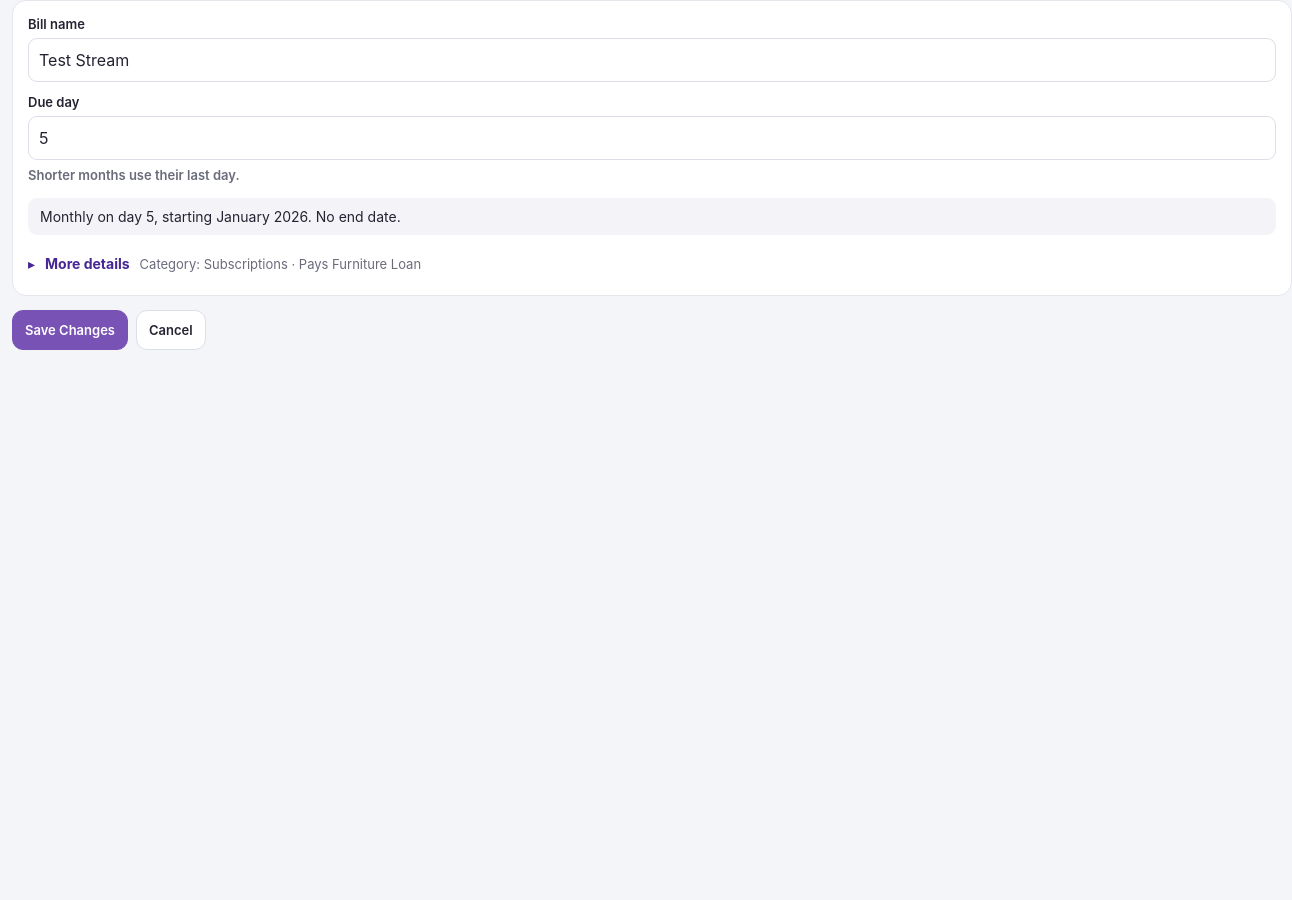
explains an incompatible End month edit, focuses the error and never saves
The width and height of the screenshot is (1292, 900).
Click the button "More details" at (79, 263), box [28,246,130,280]
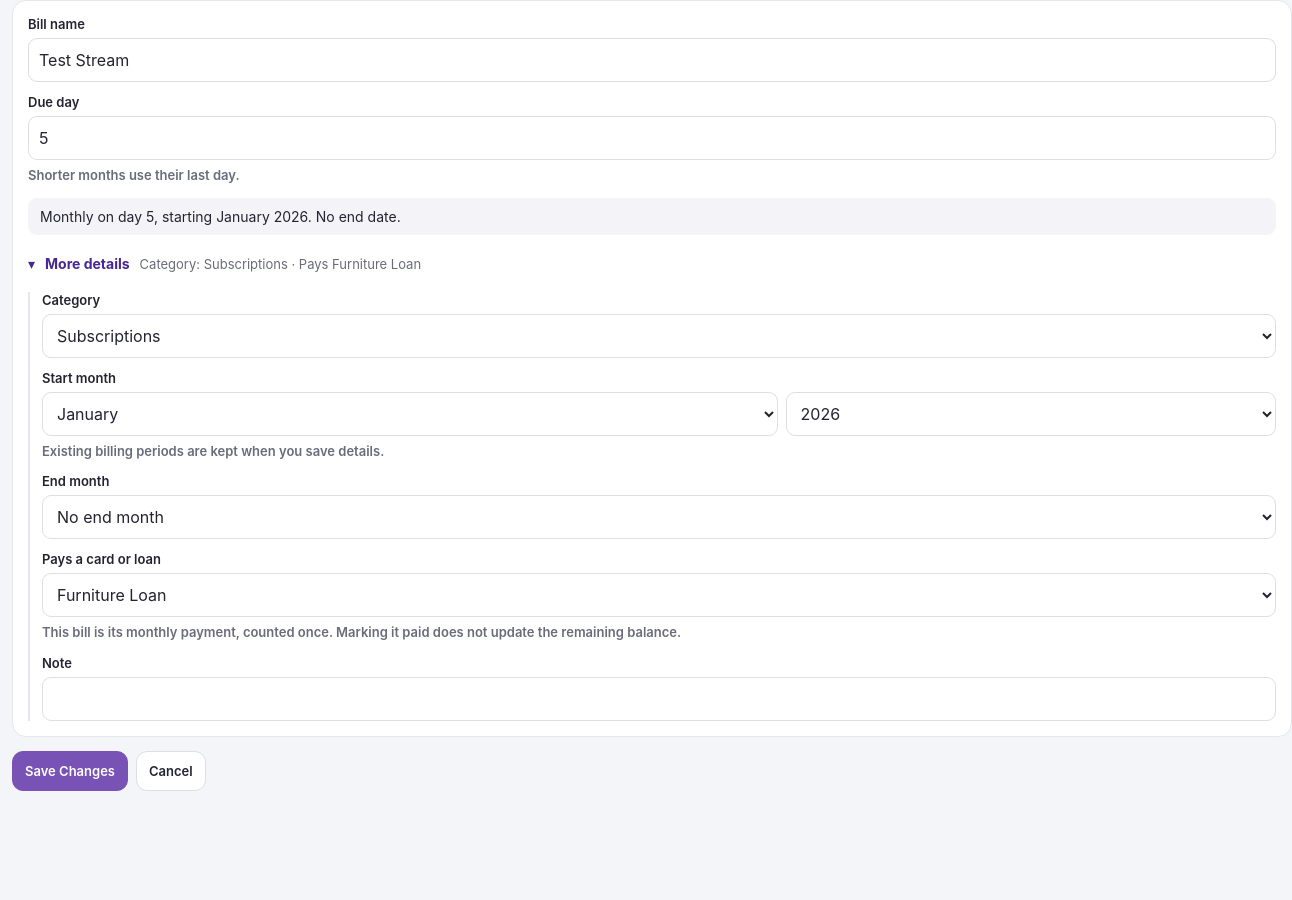
Select "February" in the dropdown named "End month: month" at (659, 517), box [42,495,1276,539]
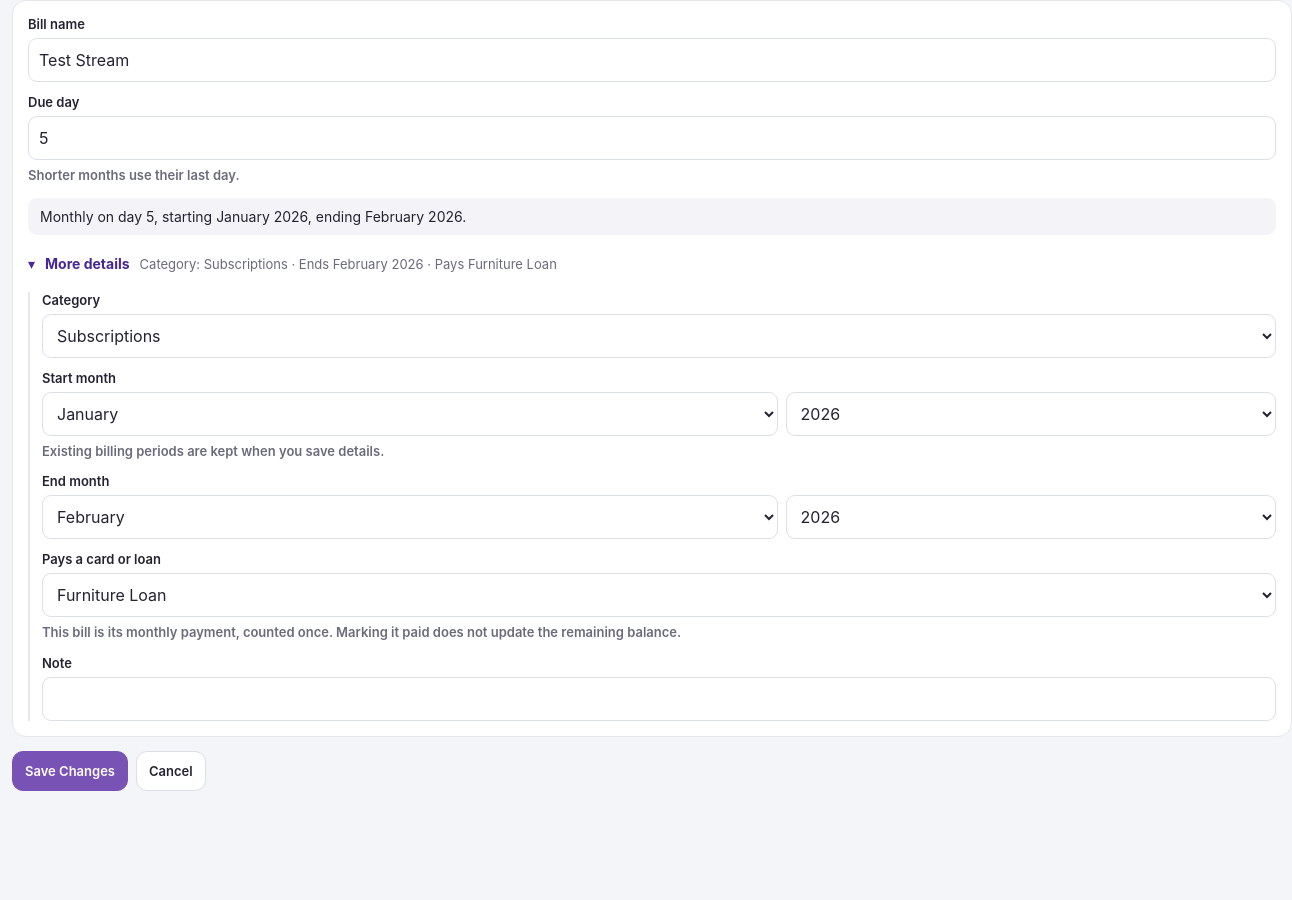
Click the button "Save Changes" at (70, 770), box [12,750,128,790]
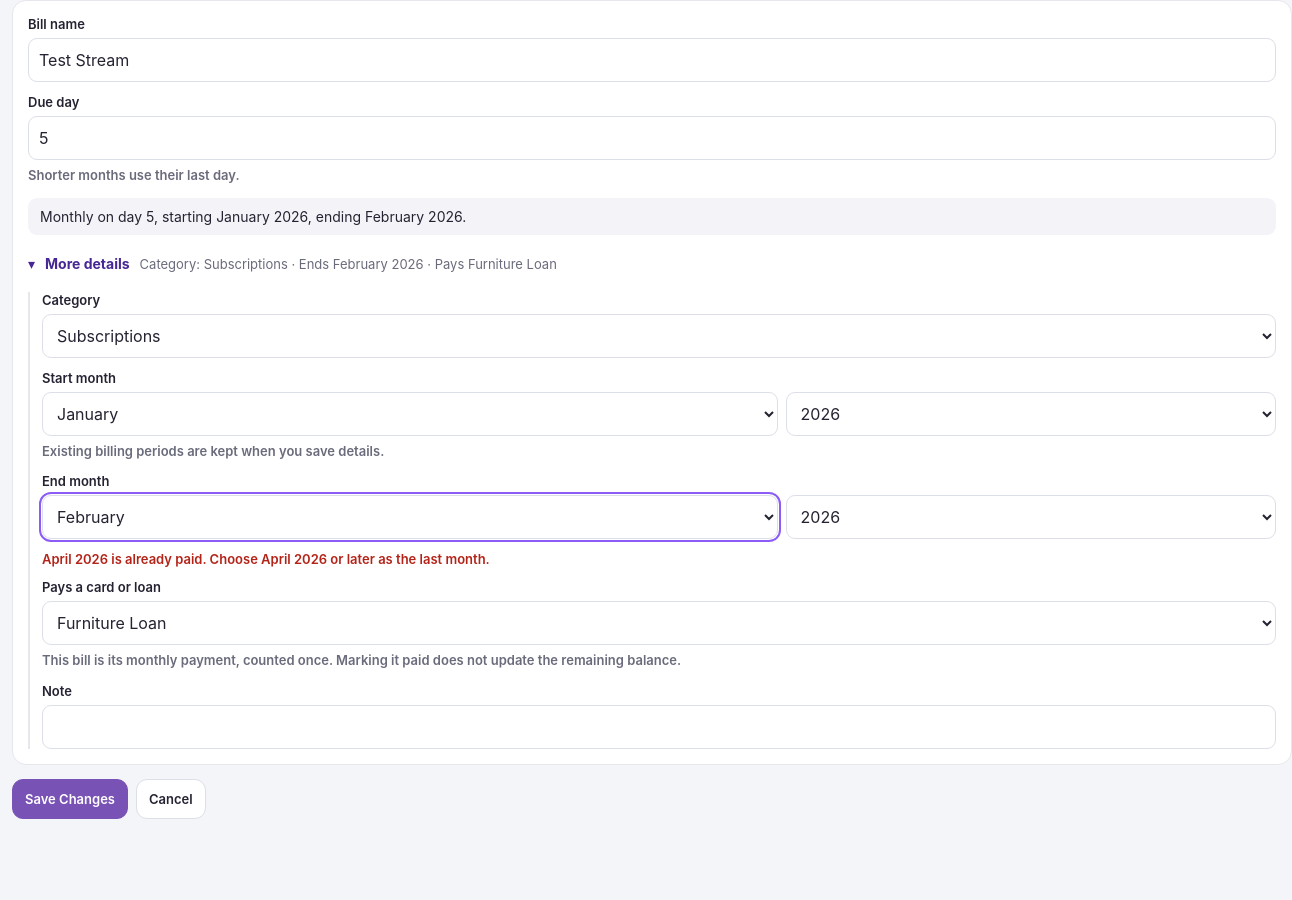
Check: the text "April 2026 is already paid" is shown, box [42,551,490,567]
